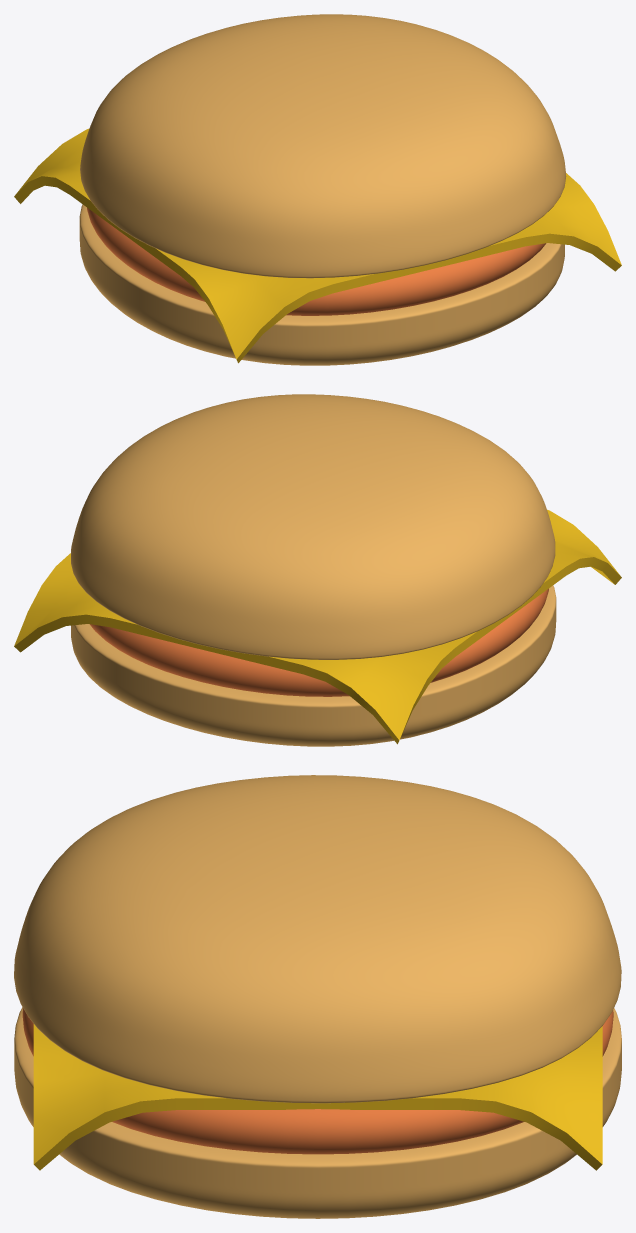
The model's file is hamburger.glb.
The picture shows the model from 3 angles, top to bottom: view 1: azimuth 30°, elevation 25°; view 2: azimuth 150°, elevation 25°; view 3: azimuth 270°, elevation 25°; orthographic projection. The views are drawn at different scales.
Parts seen in each view (by area): view 1: Cube.002, Cube, Plane, Cube.001; view 2: Cube.002, Cube, Plane, Cube.001; view 3: Cube.002, Cube, Plane, Cube.001.
Boxes of the visible parts, left/top/right/bottom form: Cube.002: left=80, top=14, right=566, bottom=278; Cube: left=79, top=204, right=564, bottom=365; Plane: left=14, top=128, right=621, bottom=363; Cube.001: left=87, top=208, right=545, bottom=315; Cube.002: left=71, top=394, right=555, bottom=659; Cube: left=71, top=585, right=556, bottom=746; Plane: left=14, top=509, right=621, bottom=744; Cube.001: left=90, top=588, right=548, bottom=696; Cube.002: left=14, top=775, right=621, bottom=1103; Cube: left=14, top=1007, right=621, bottom=1218; Plane: left=33, top=1024, right=602, bottom=1170; Cube.001: left=22, top=1008, right=613, bottom=1154.
Size of the model in its own units: 3.75 by 1.96 by 3.75.
